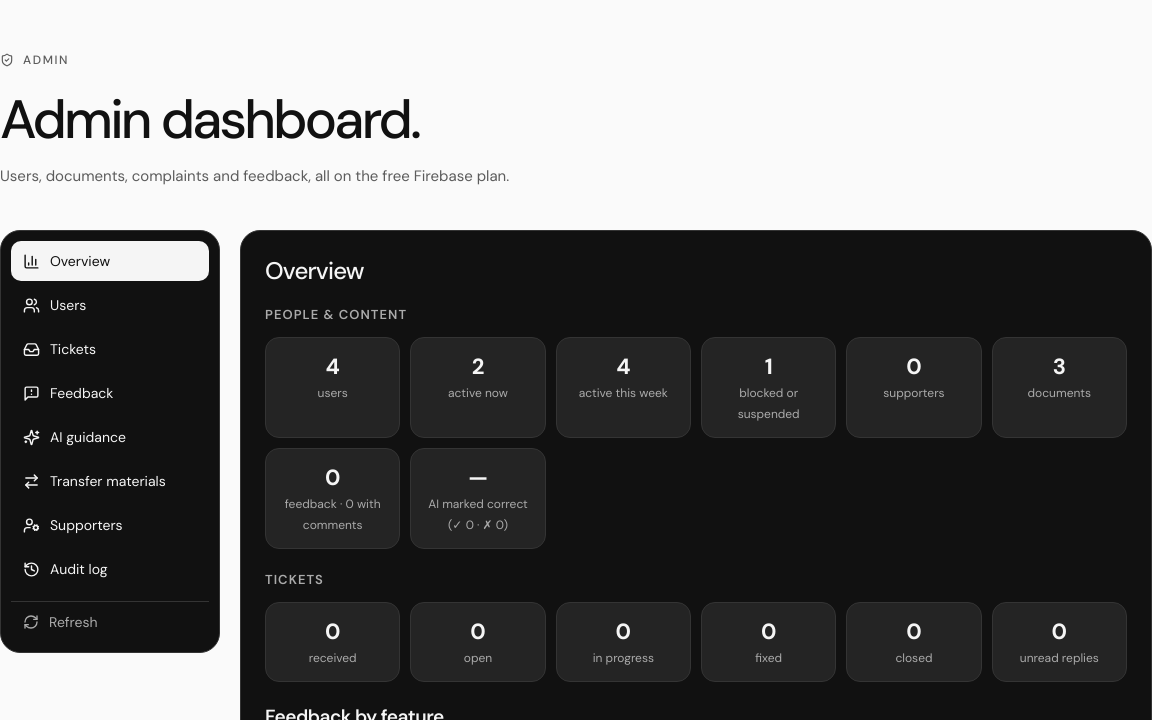
suspends a user for a chosen time with a reason, then ends it early
expect the text "active now" is shown: met, box x1=448 y1=385 x2=508 y2=401
Click the button "Users": (110, 305) x1=11 y1=285 x2=209 y2=325
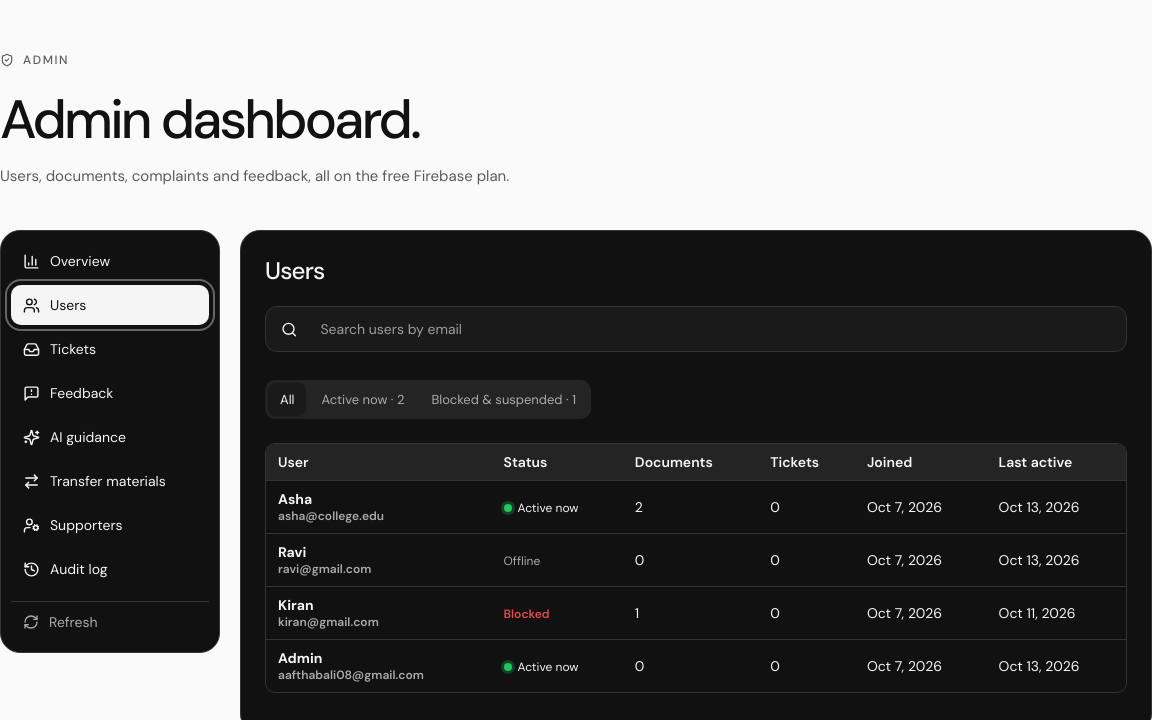
Click the button with aria-label "Open ravi@gmail.com": (325, 560) x1=278 y1=543 x2=371 y2=577
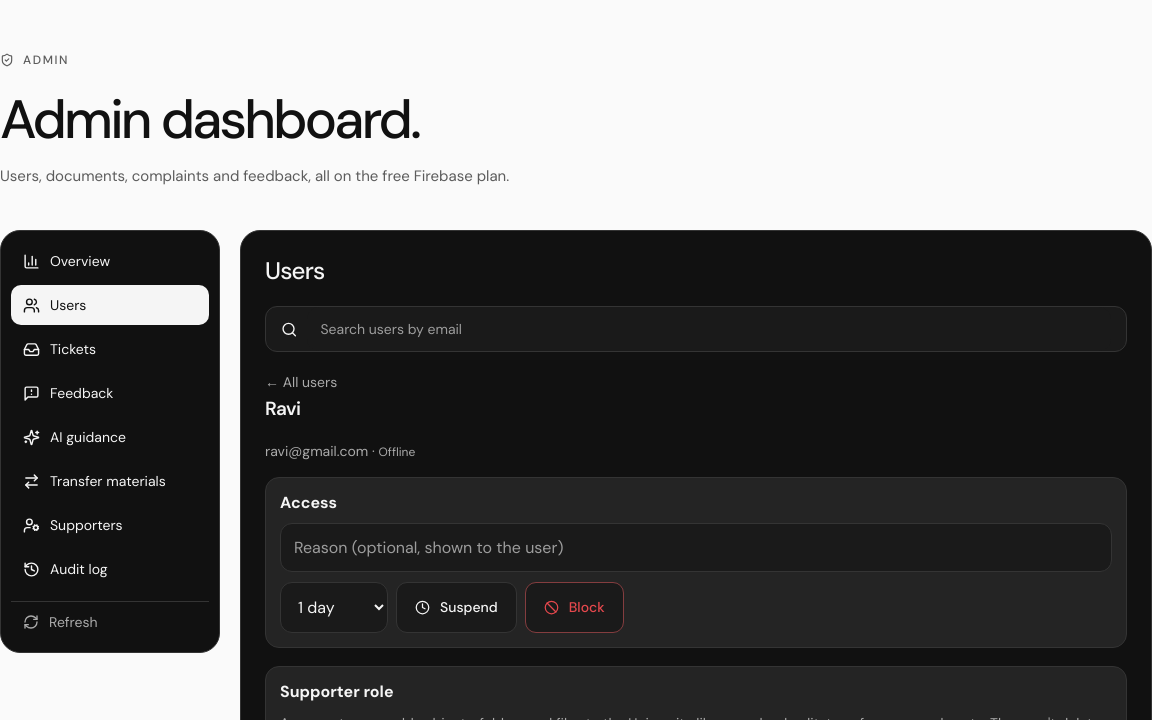
In the field named "Reason (shown to the user)": (696, 547) x1=280 y1=523 x2=1112 y2=572, type "Spamming tickets"
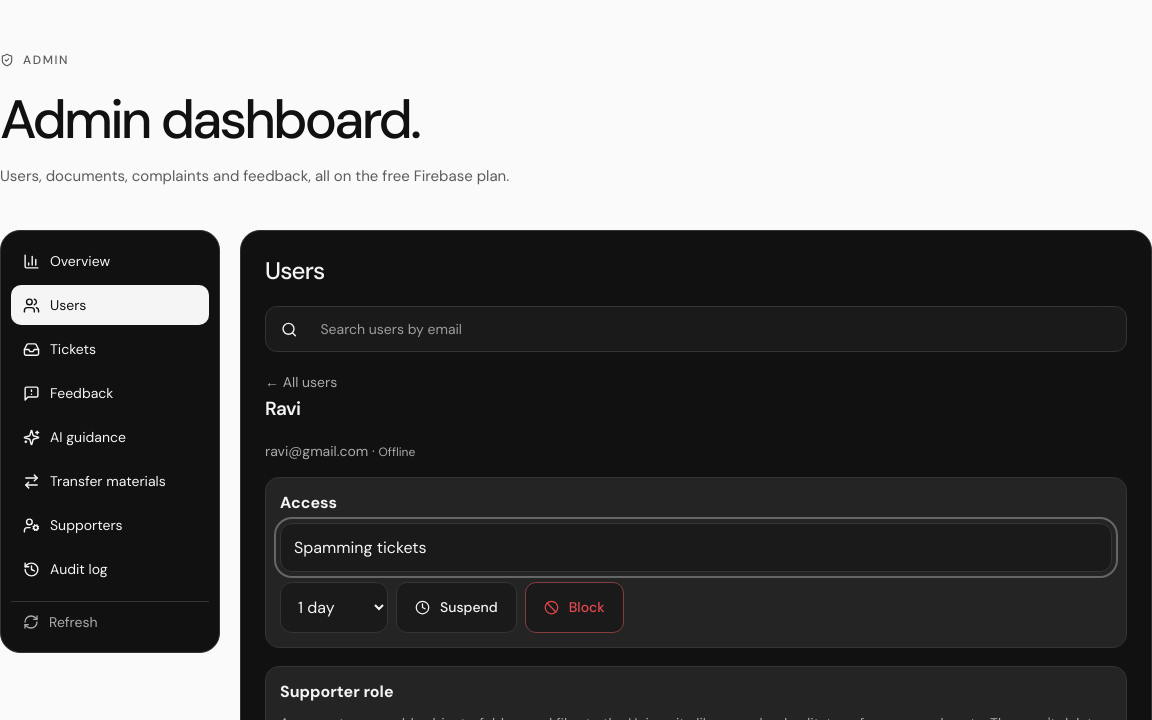
Select "3 days" in the dropdown named "Suspend for": (334, 607) x1=280 y1=582 x2=388 y2=633
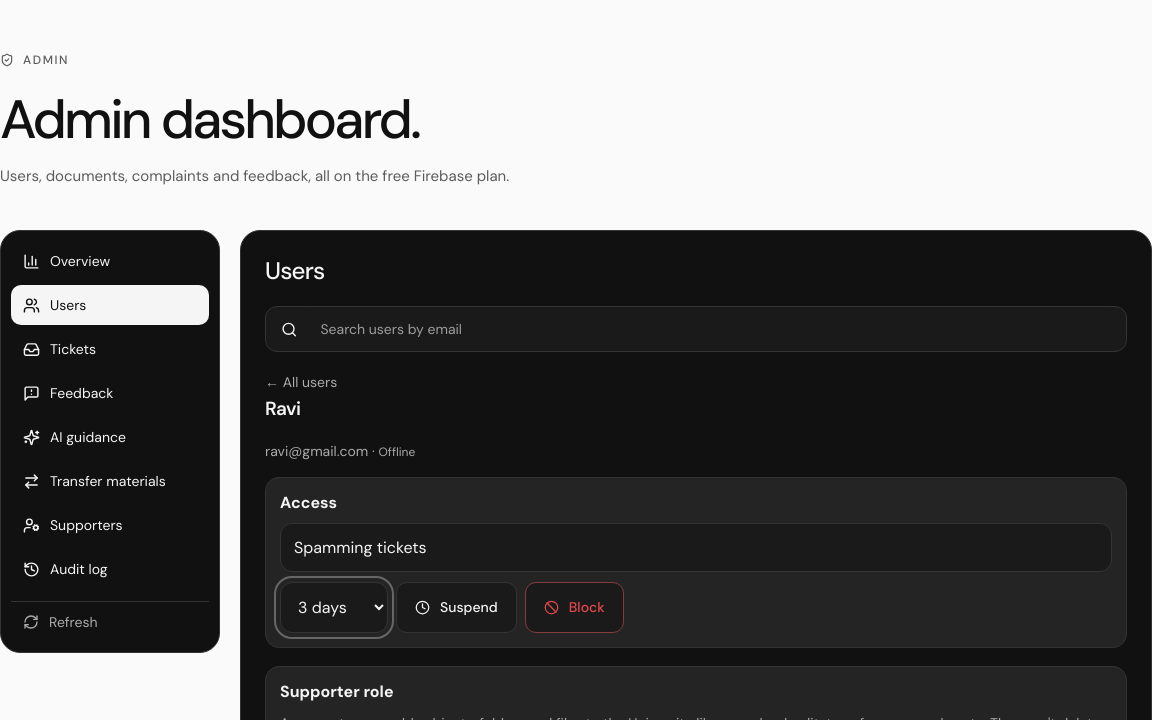
Click the button "Suspend": (456, 607) x1=396 y1=582 x2=517 y2=633
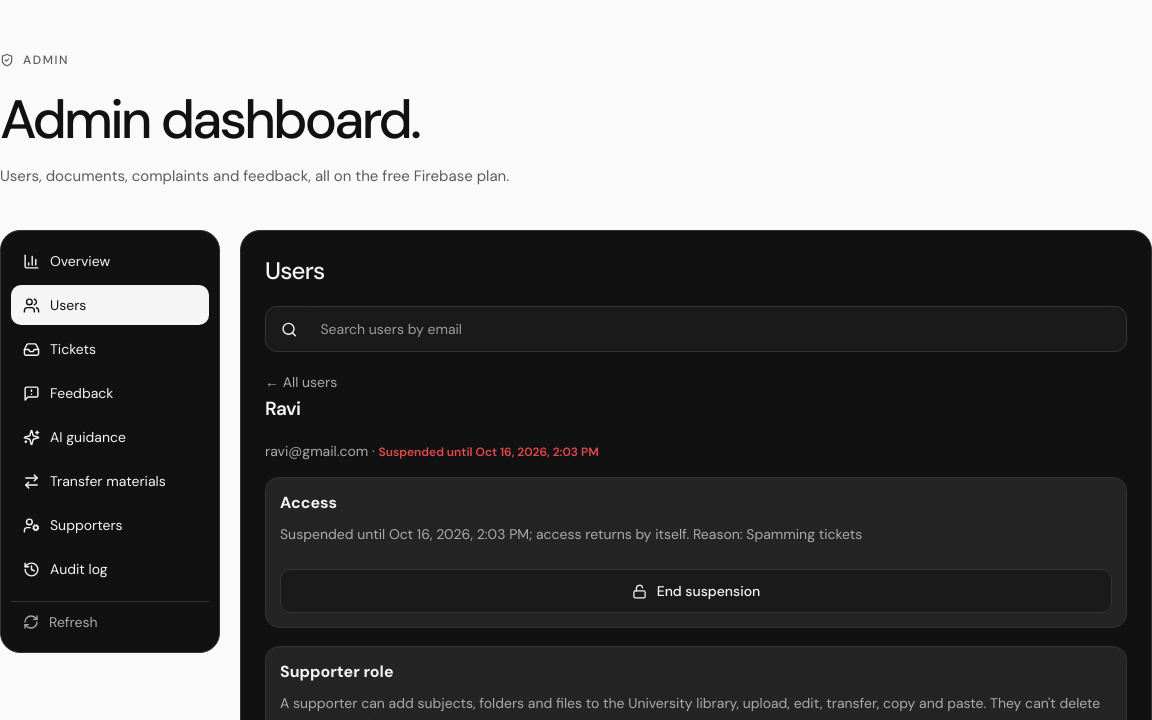
expect the text "Suspended until Oct 16, 2026, 2:03 PM" is shown: met, box x1=378 y1=443 x2=599 y2=462
expect the text "Reason: Spamming tickets" is shown: met, box x1=689 y1=525 x2=862 y2=543
Click the button "End suspension": (696, 591) x1=280 y1=569 x2=1112 y2=613
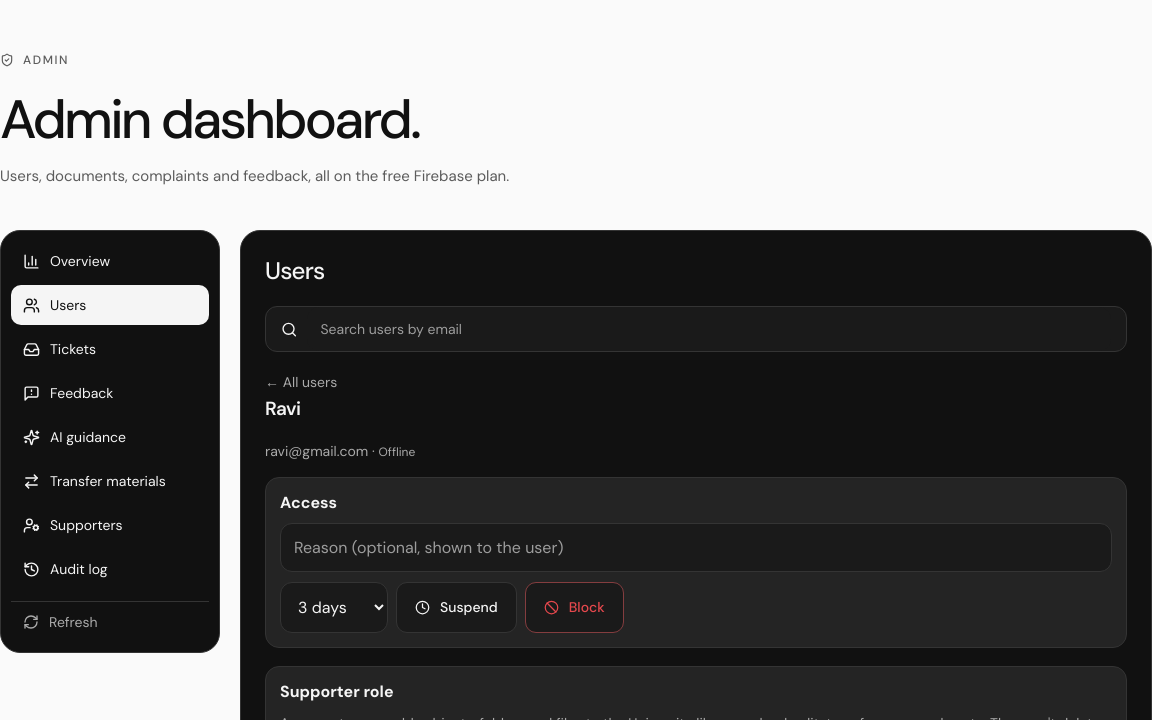
expect the button "Block" is shown: met, box x1=525 y1=582 x2=624 y2=633
